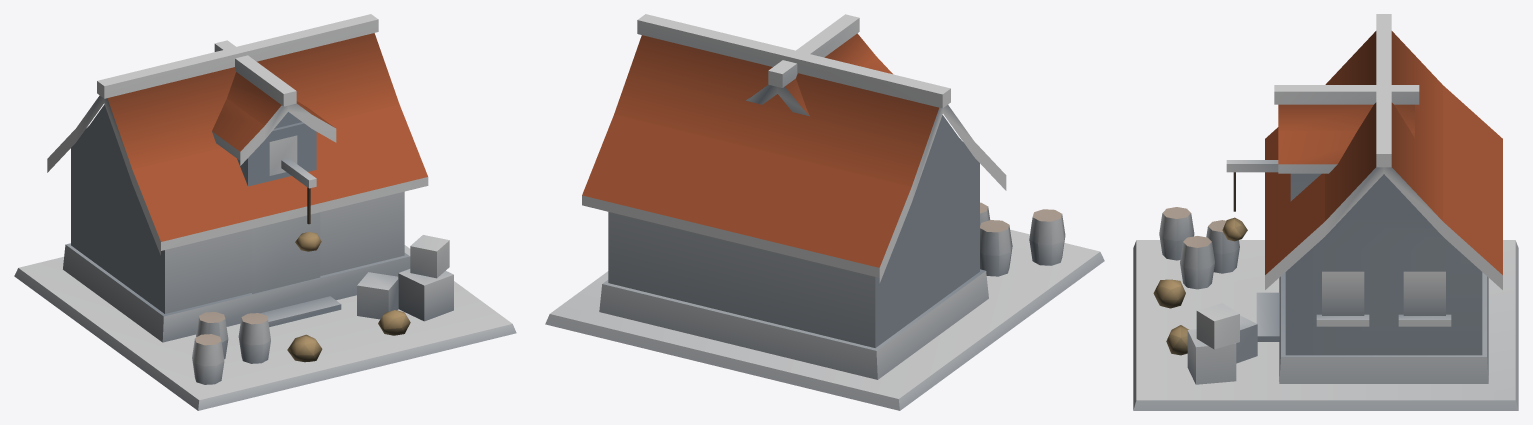
Rendered from storehouse_t3.glb.
3 renders of one model, left to right at view 1: azimuth 30°, elevation 25°; view 2: azimuth 150°, elevation 25°; view 3: azimuth 270°, elevation 25°, orthographic. The views are drawn at different scales.
Parts seen in each view (by area): view 1: storehouse_t3; view 2: storehouse_t3; view 3: storehouse_t3.
Boxes of the visible parts, x1,y1,x2,y2 form: storehouse_t3: (14,14,516,410); storehouse_t3: (545,14,1104,410); storehouse_t3: (1133,14,1518,410).
Size of the model in its own units: 1.86 by 1.31 by 1.86.
